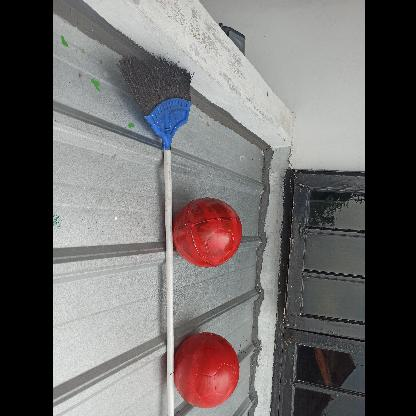red_ball: (168, 335, 244, 410), (173, 200, 243, 270)
